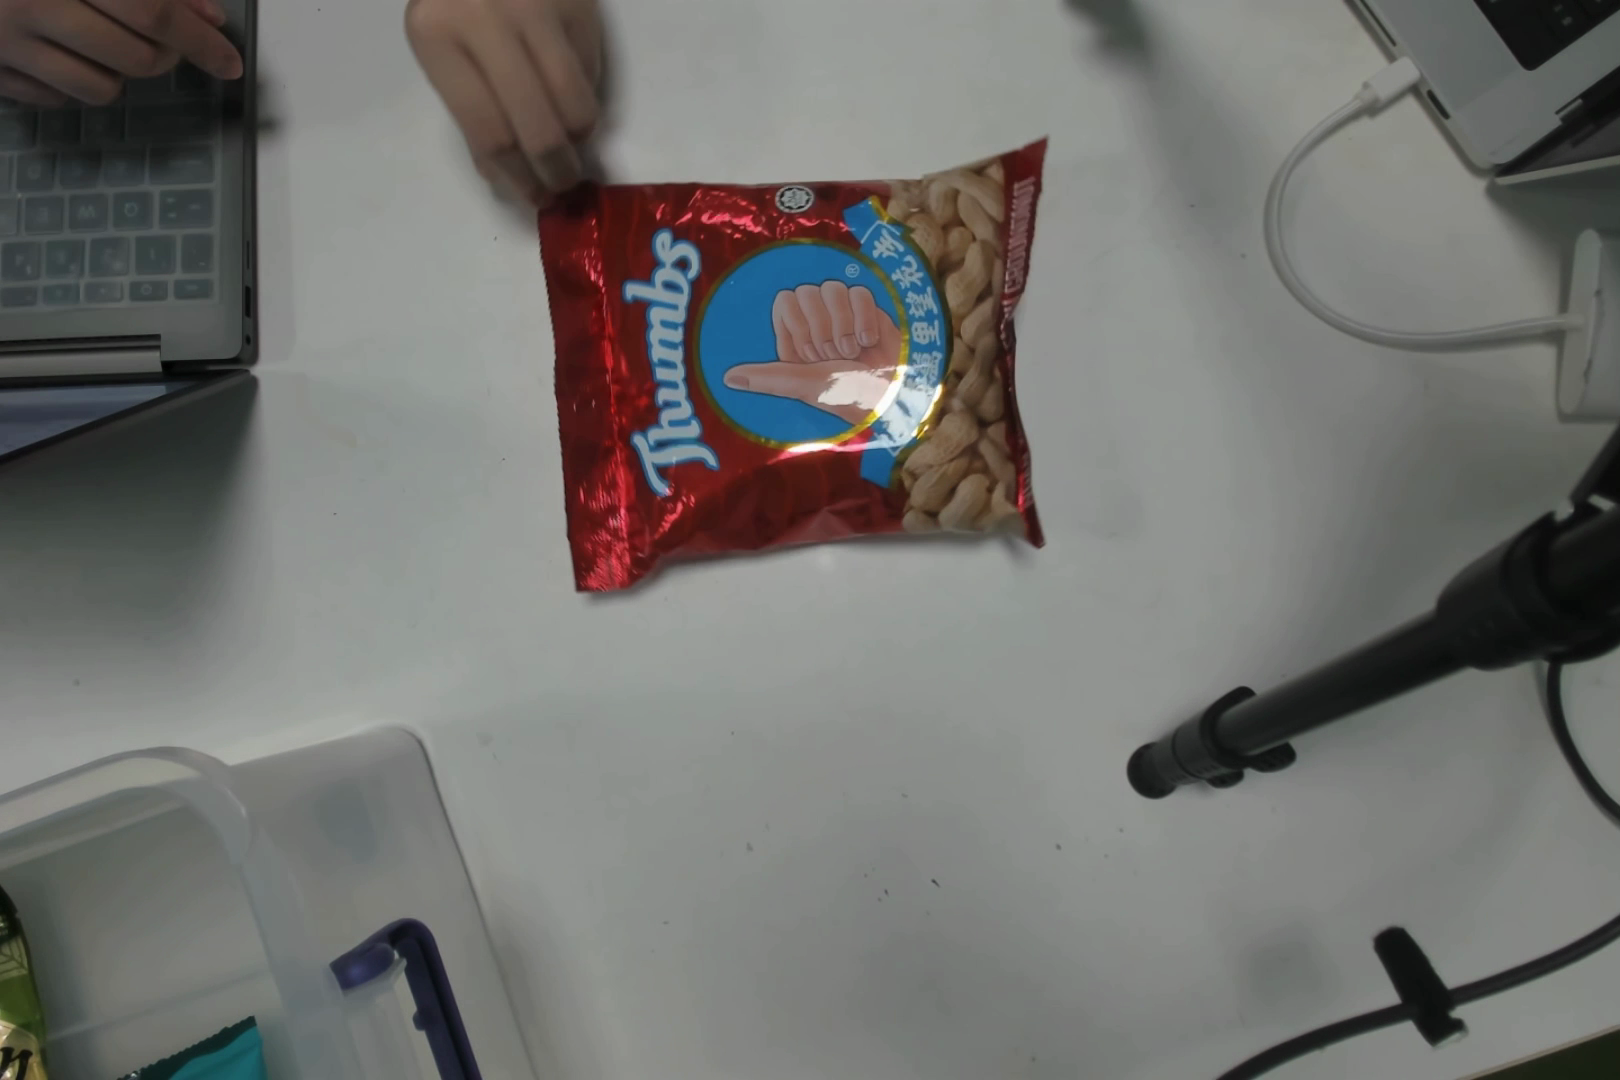Nuts_100-199g_Halal_NonHealthy: (573, 178, 1068, 553)
